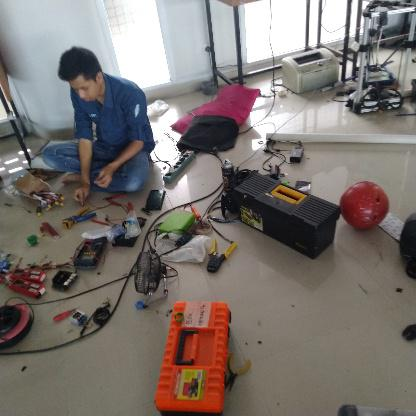red_buoy: (338, 180, 390, 234)
